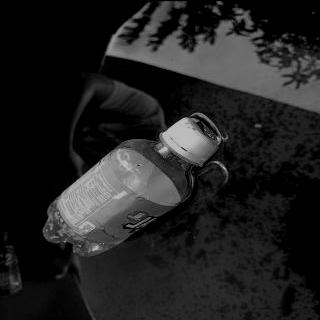bottle: (35, 111, 224, 260)
